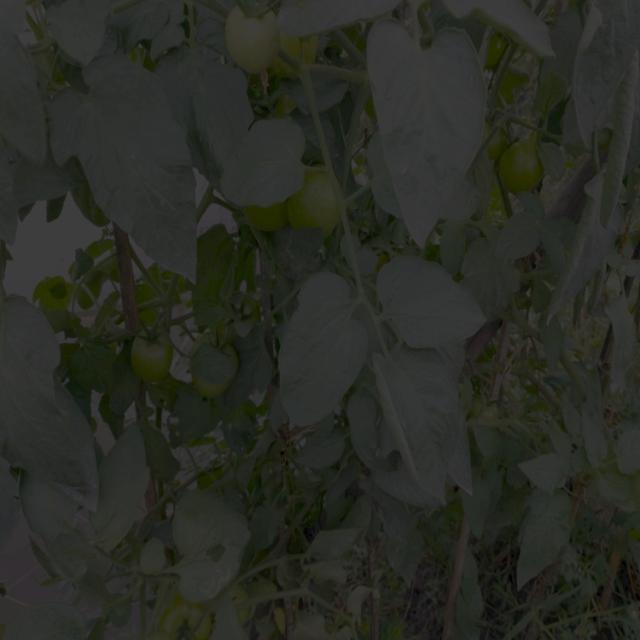tomato: (496, 132, 556, 201), (296, 162, 349, 239), (227, 5, 286, 72), (196, 332, 240, 395), (131, 329, 177, 382), (167, 604, 223, 640), (246, 200, 289, 241), (475, 396, 514, 434), (226, 293, 264, 328), (486, 33, 506, 72), (234, 594, 252, 621)
